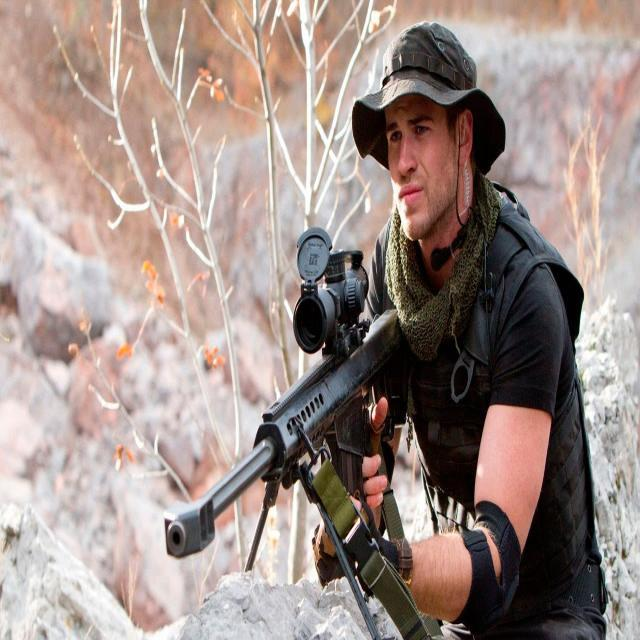rifle: (160, 224, 419, 567)
